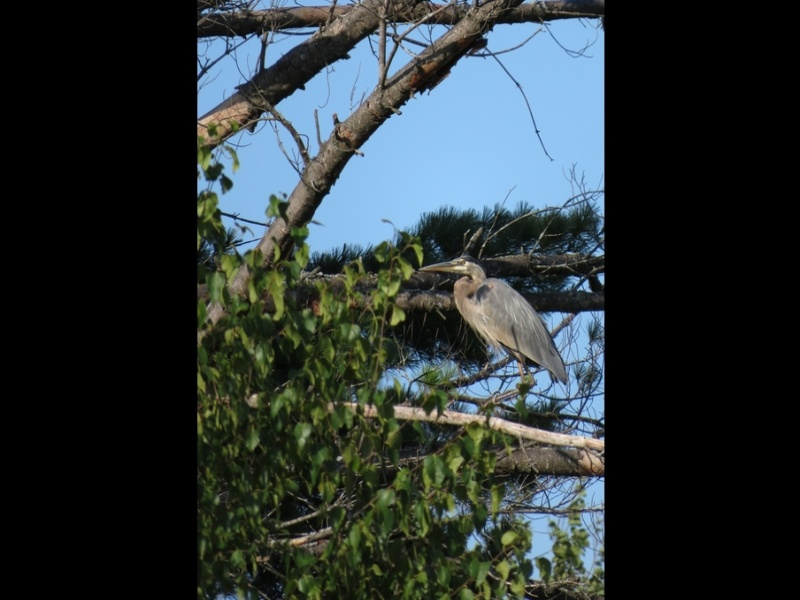heron: (415, 253, 574, 426)
